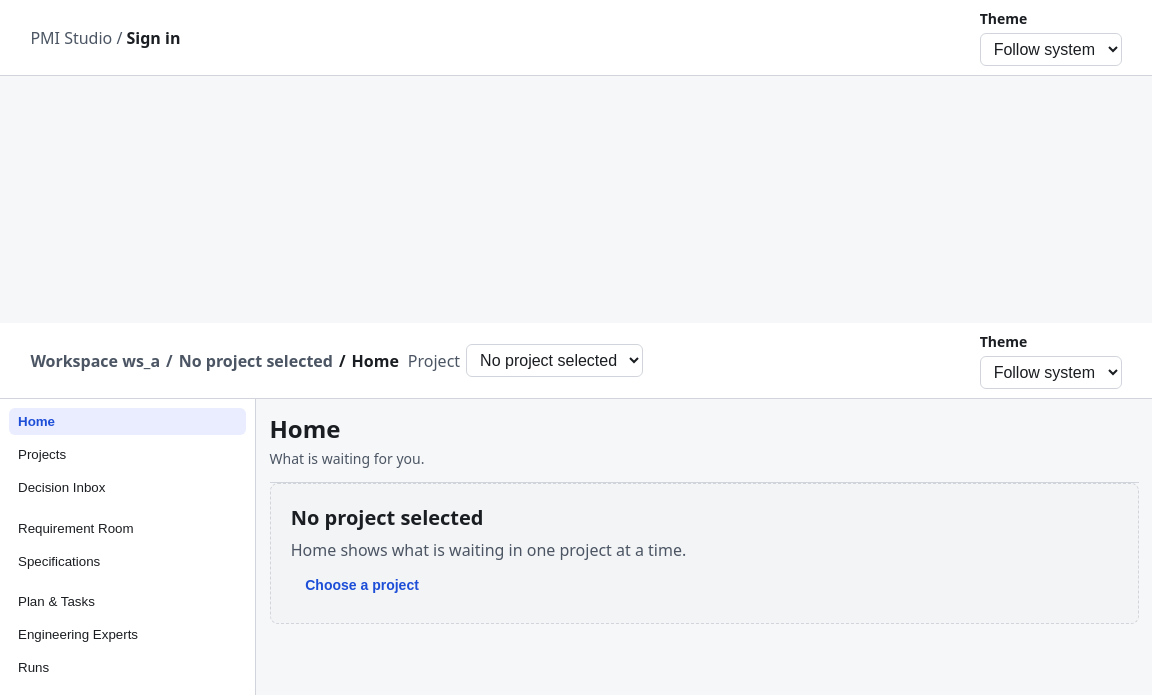
Test: T439g · the four states are distinguishable › distinguishes an absent source from a working, empty one
(page scrolled)
Select "Payments" in the dropdown labelled "Project" at (555, 360), box [466,344,643,377]
(page scrolled)
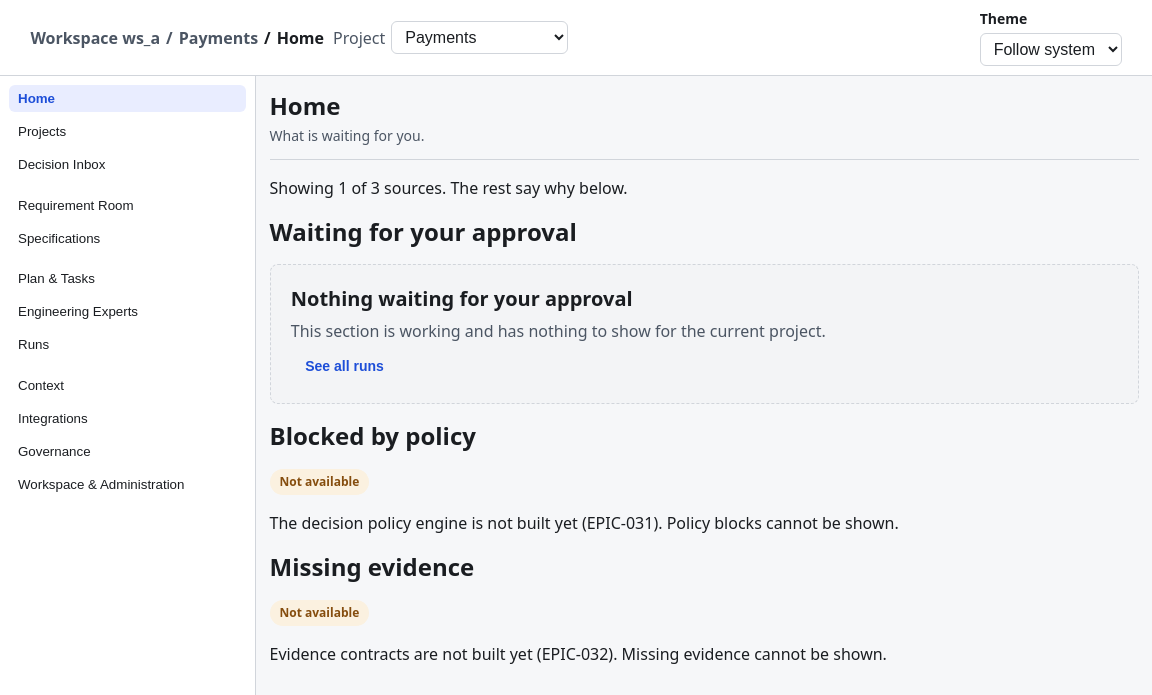
Now the text "Showing 1 of 3 sources. The rest say why below." is shown, box [270,177,628,199]
Now the text "has nothing to show" is shown, box [291,320,826,342]
Now the text "Not available" below "Blocked by policy" is shown, box [280,473,359,490]
